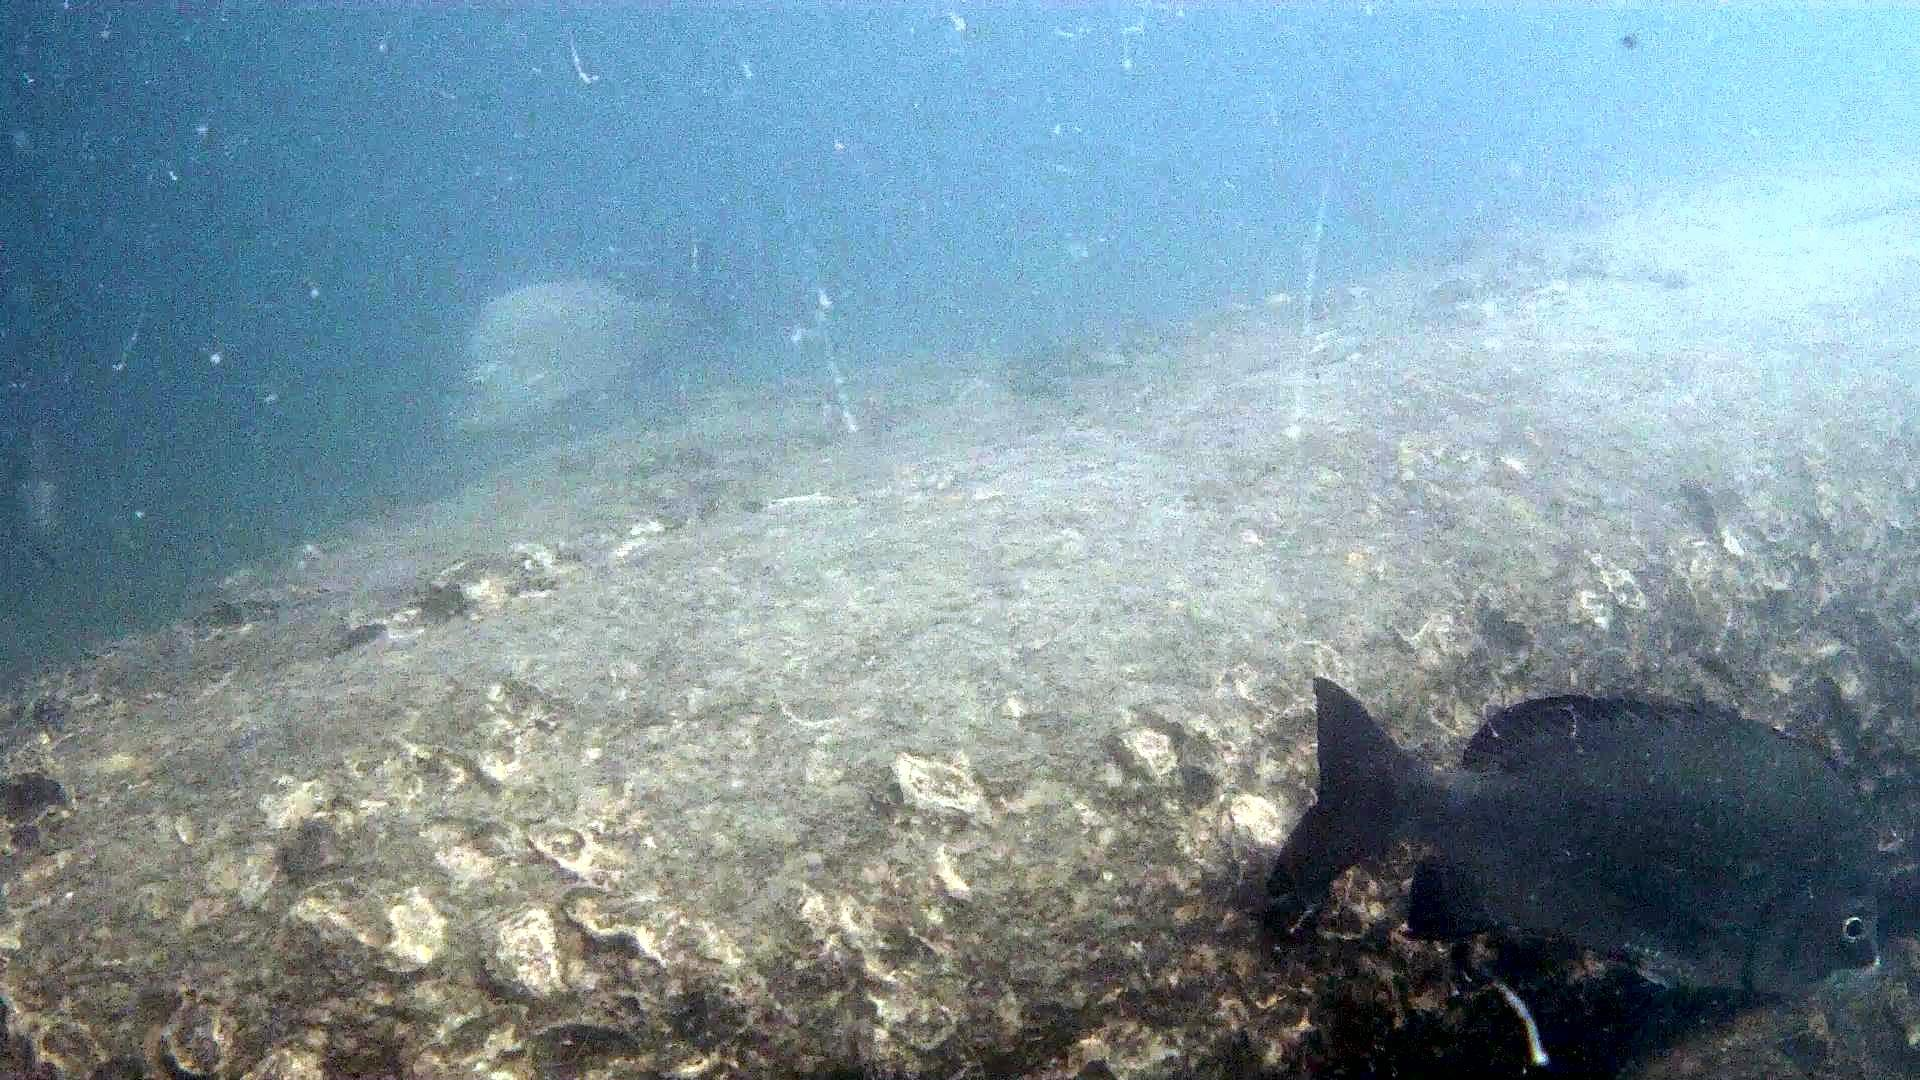acanthopagrus palmaris: (1254, 663, 1891, 1042)
